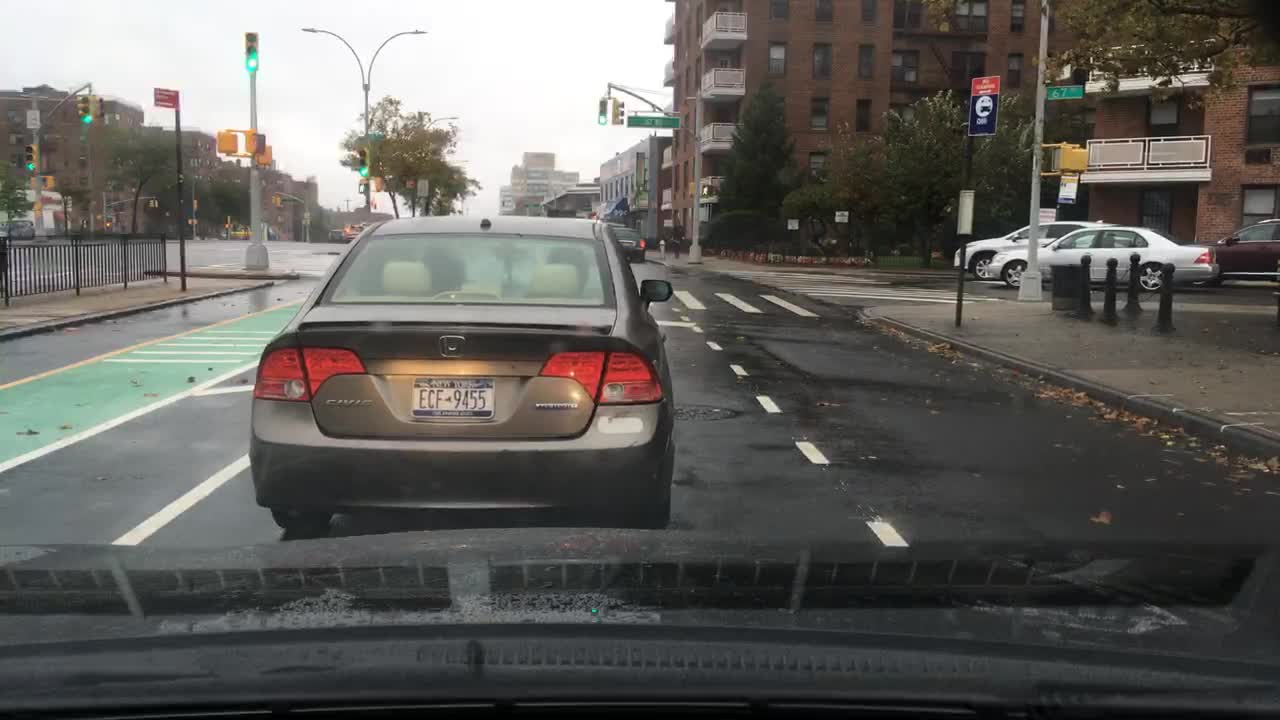car: (247, 215, 674, 537), (990, 224, 1223, 289), (951, 220, 1120, 281), (1205, 220, 1278, 280), (612, 227, 646, 261), (0, 219, 35, 239), (219, 222, 254, 241), (342, 222, 368, 244), (257, 221, 279, 241), (601, 219, 626, 230), (328, 227, 345, 242)
person: (667, 223, 687, 259)
traffic light: (242, 30, 261, 72), (253, 142, 274, 165), (75, 93, 90, 124), (23, 144, 38, 175), (356, 147, 370, 178), (244, 132, 265, 152), (216, 132, 239, 150), (611, 98, 624, 127), (597, 96, 608, 124), (700, 181, 714, 200), (356, 178, 371, 195), (41, 173, 56, 189), (373, 176, 386, 193), (687, 181, 697, 201), (29, 173, 39, 192), (29, 210, 44, 221), (30, 201, 46, 211), (270, 193, 279, 205), (152, 196, 159, 211), (276, 193, 282, 208), (145, 196, 152, 208)
traffic sign: (967, 72, 999, 138), (956, 188, 975, 236), (626, 115, 680, 127), (1047, 84, 1084, 101), (152, 87, 181, 107), (1057, 175, 1076, 204), (1039, 206, 1058, 225), (24, 107, 41, 128), (833, 208, 850, 224), (365, 130, 388, 141), (784, 216, 801, 230), (416, 178, 429, 196), (184, 216, 201, 227), (520, 202, 545, 208)
